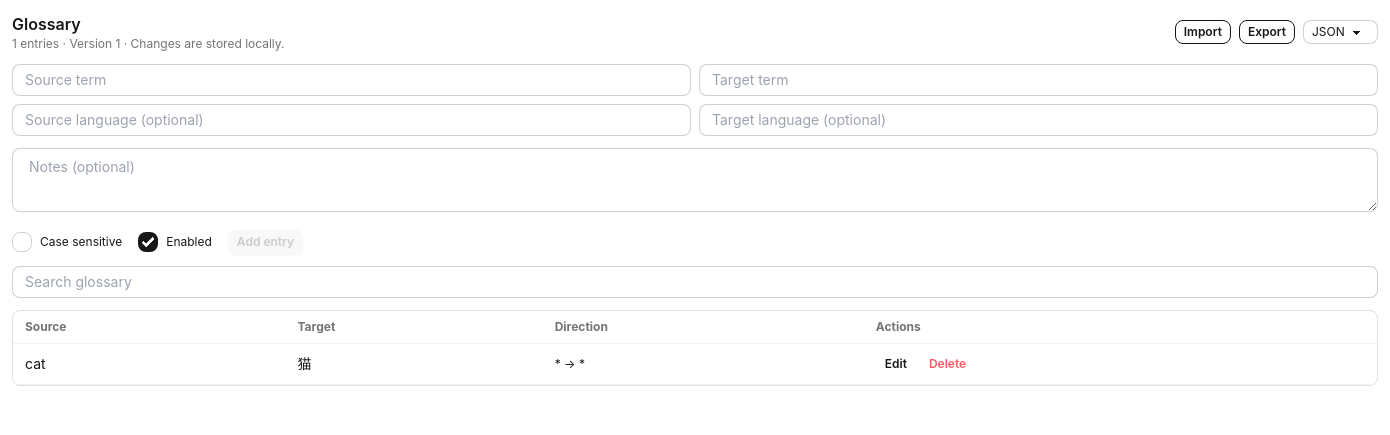
Test: TranslationGlossaryPanel › shows duplicate, picker, and export failures without replacing persisted data
Type "CAT" into the field labelled "Source term" at (352, 80), box [12,64,691,96]
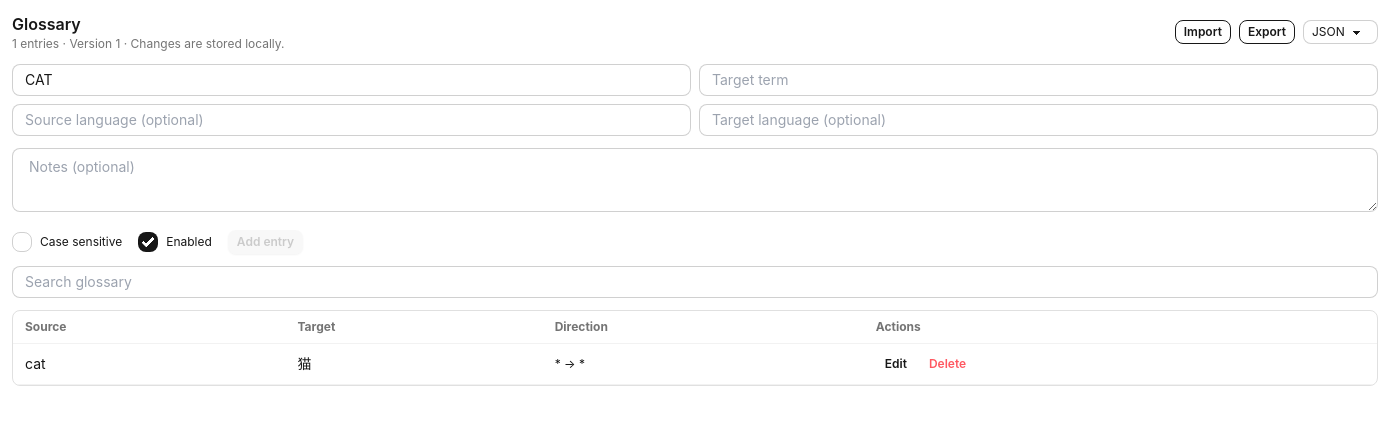
Type "猫咪" into the field labelled "Target term" at (1038, 80), box [699,64,1378,96]
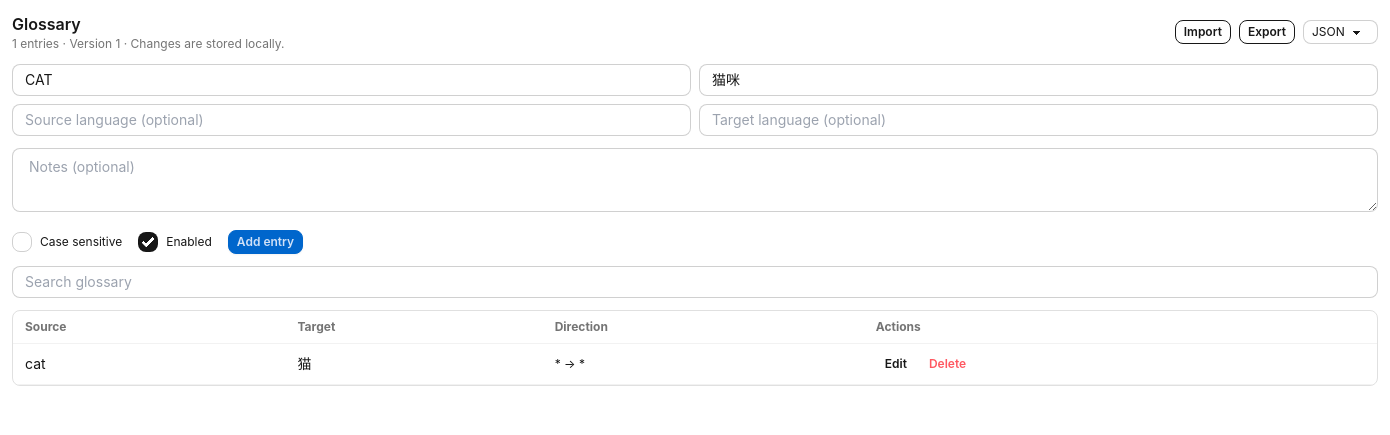
Click the button "Add entry" at (266, 242), box [228,230,303,254]
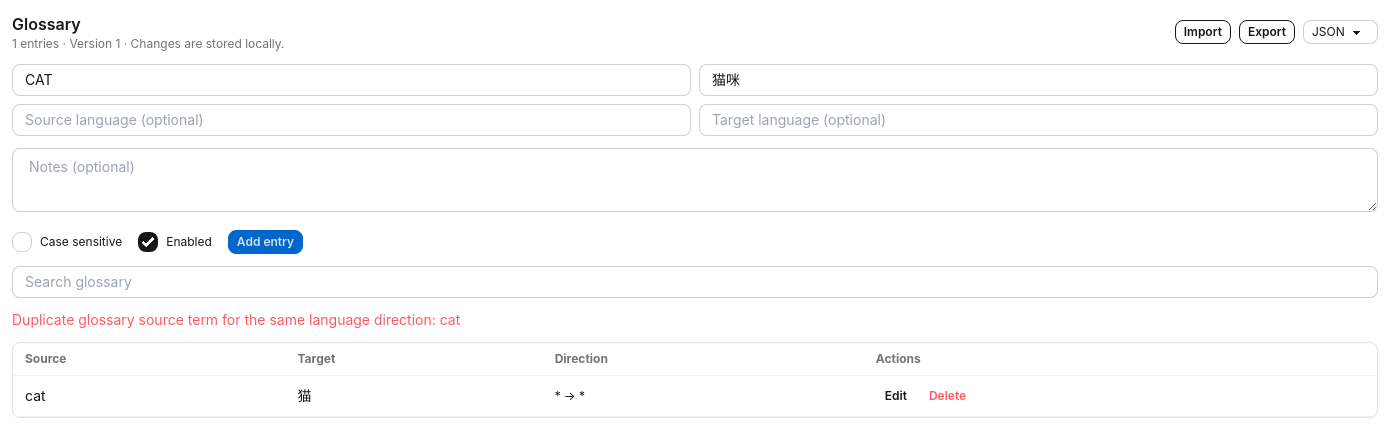
Check: the text "Duplicate glossary source term for the same language direction: cat" is shown, box [12,311,460,328]
Click the button "Import" at (1203, 32), box [1175,20,1231,44]
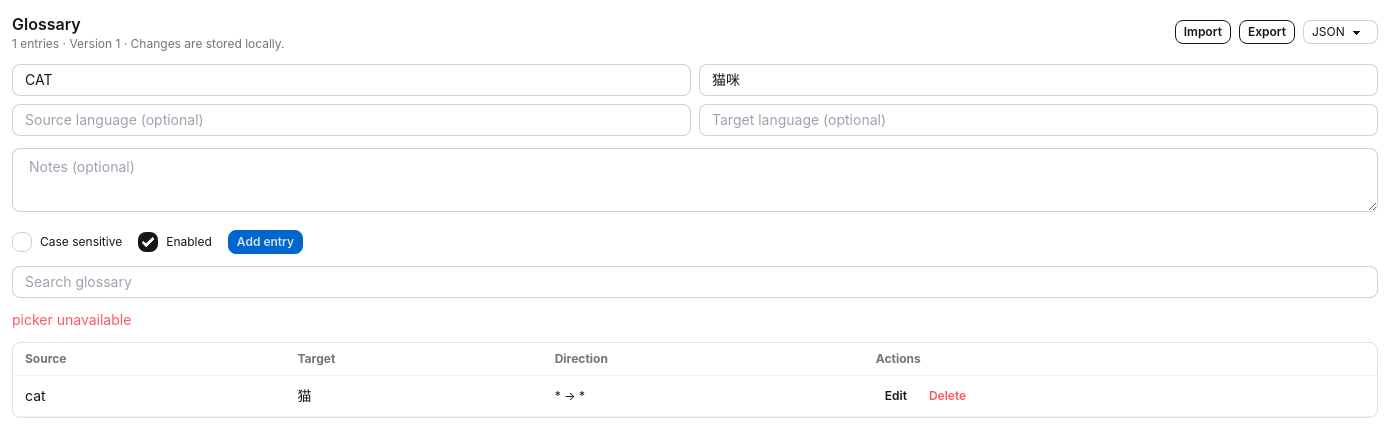
Check: the text "picker unavailable" is shown, box [12,311,131,328]
Click the button "Export" at (1267, 32), box [1239,20,1295,44]
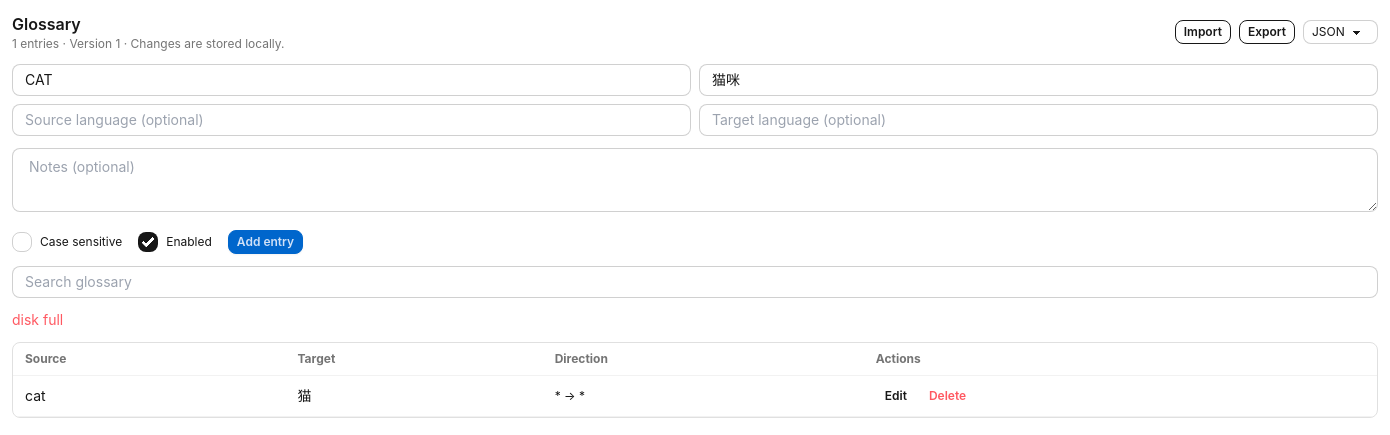
Check: the text "disk full" is shown, box [12,311,63,328]
